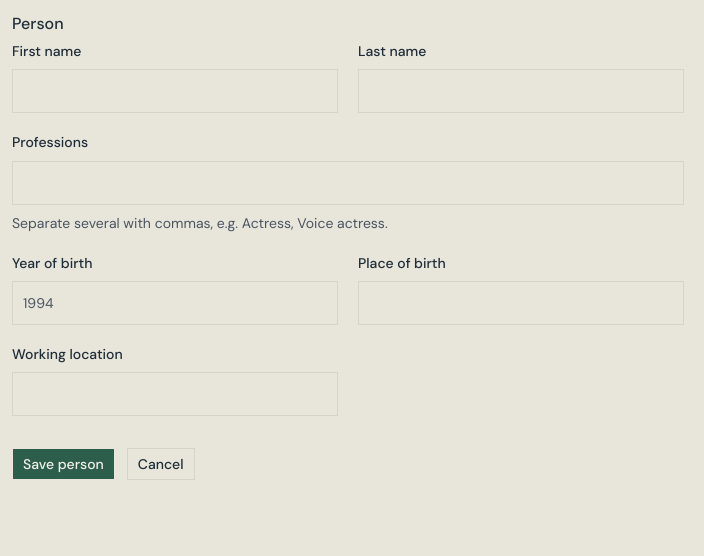
Test: CreatePersonForm › shows validation errors and does not save
In the field labelled "Year of birth": (175, 303) top-left (12, 281), bottom-right (338, 325), type "94"
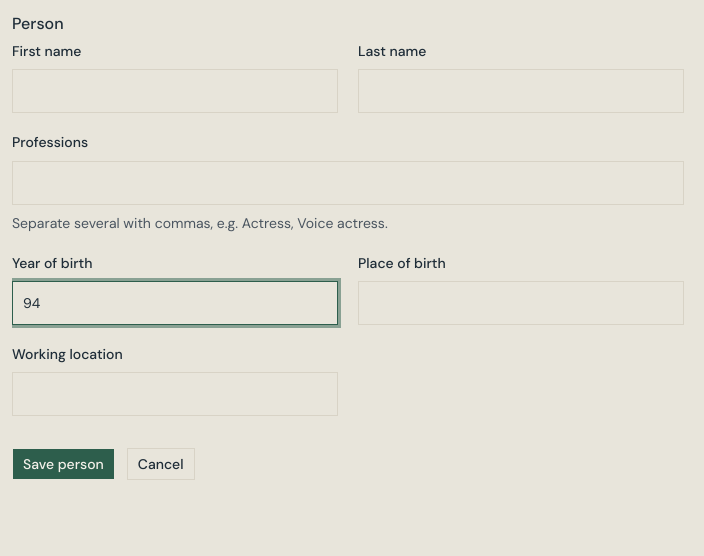
Click the button "Save person": click(63, 464) top-left (12, 448), bottom-right (115, 480)
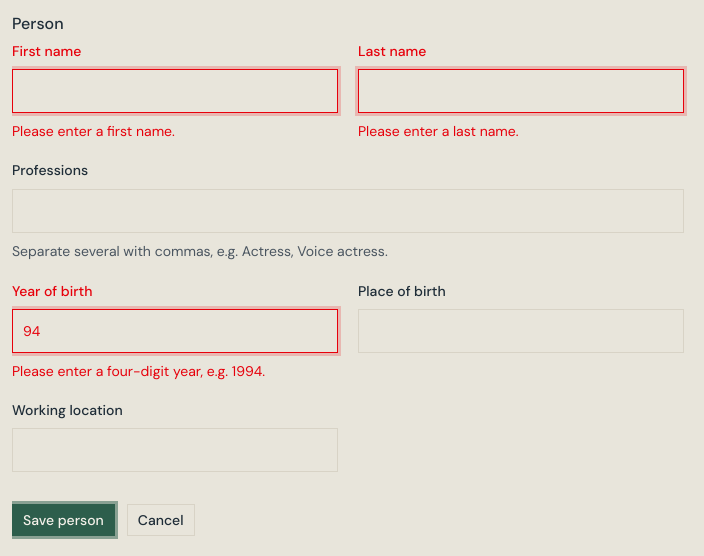
Expected: the text "Please enter a first name." is shown, top-left (12, 122), bottom-right (175, 140)
